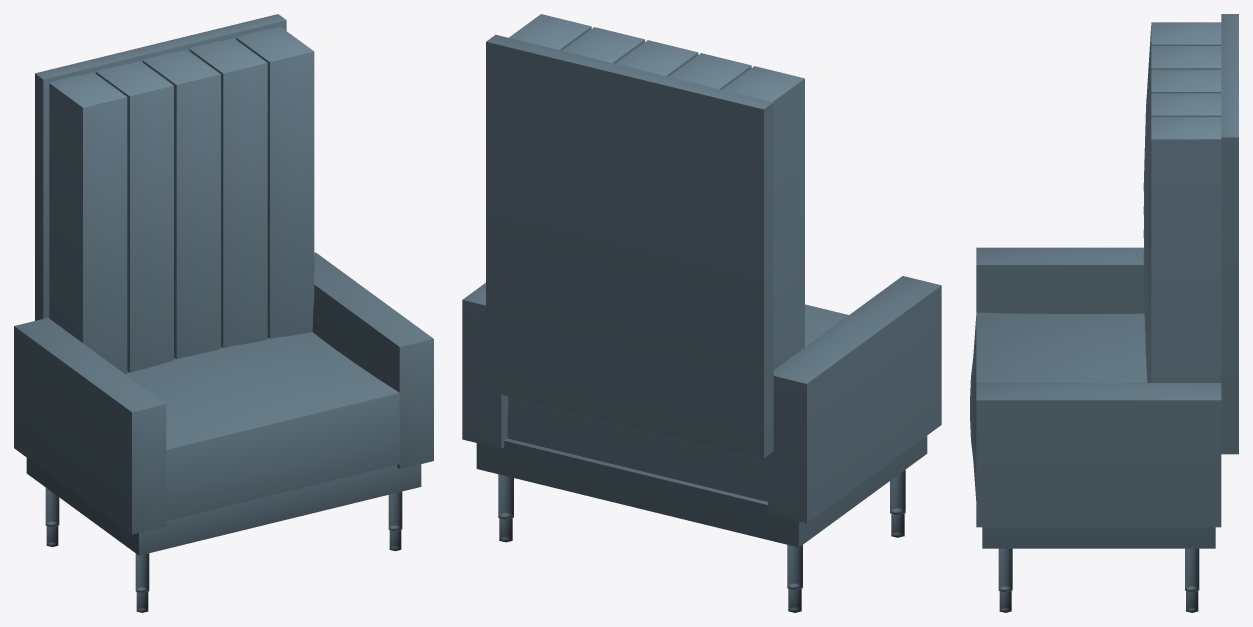
The model's file is sofa_lod1.glb.
3 views of the same model, side by side, from view 1: azimuth 30°, elevation 25°; view 2: azimuth 150°, elevation 25°; view 3: azimuth 270°, elevation 25° (orthographic). The views are drawn at different scales.
Parts seen in each view (by area): view 1: BoutiqueSofa_LOD1; view 2: BoutiqueSofa_LOD1; view 3: BoutiqueSofa_LOD1.
Part boxes in pixels (x1,y1,x2,y2): BoutiqueSofa_LOD1: (14, 14, 433, 612); BoutiqueSofa_LOD1: (462, 14, 941, 612); BoutiqueSofa_LOD1: (970, 14, 1238, 612).
Bounding box in the file's own units: 1.28 × 1.78 × 0.9217.
